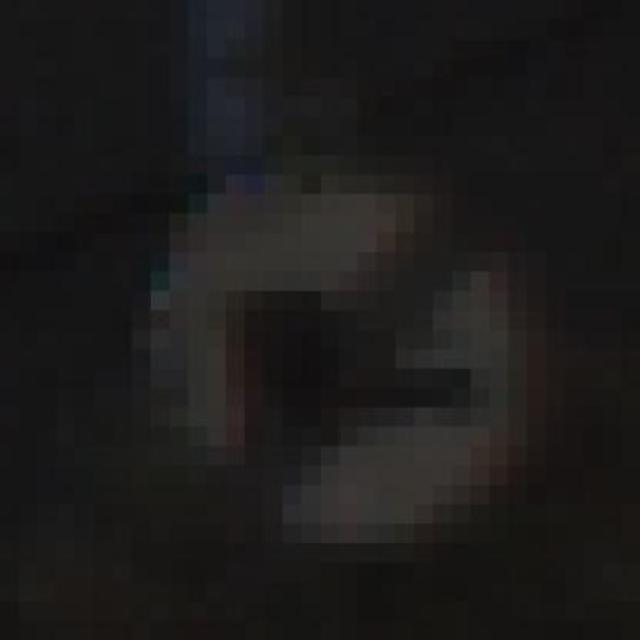Overtaking by trucks is prohibited: (113, 116, 602, 582)
